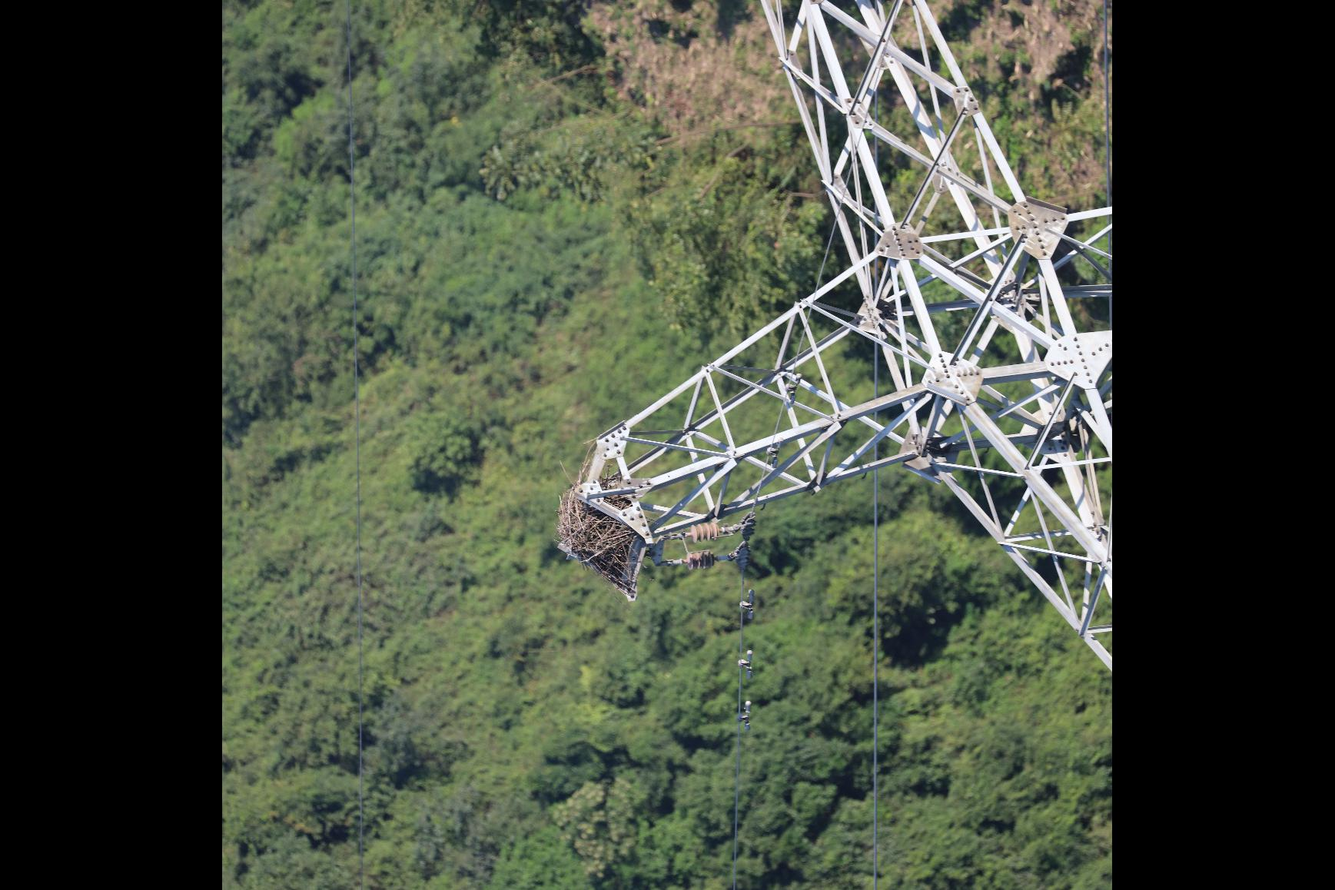damper: (783, 370, 805, 410), (732, 698, 753, 734), (737, 587, 757, 624), (735, 647, 756, 682), (764, 437, 785, 470)
nest: (551, 473, 643, 595)
